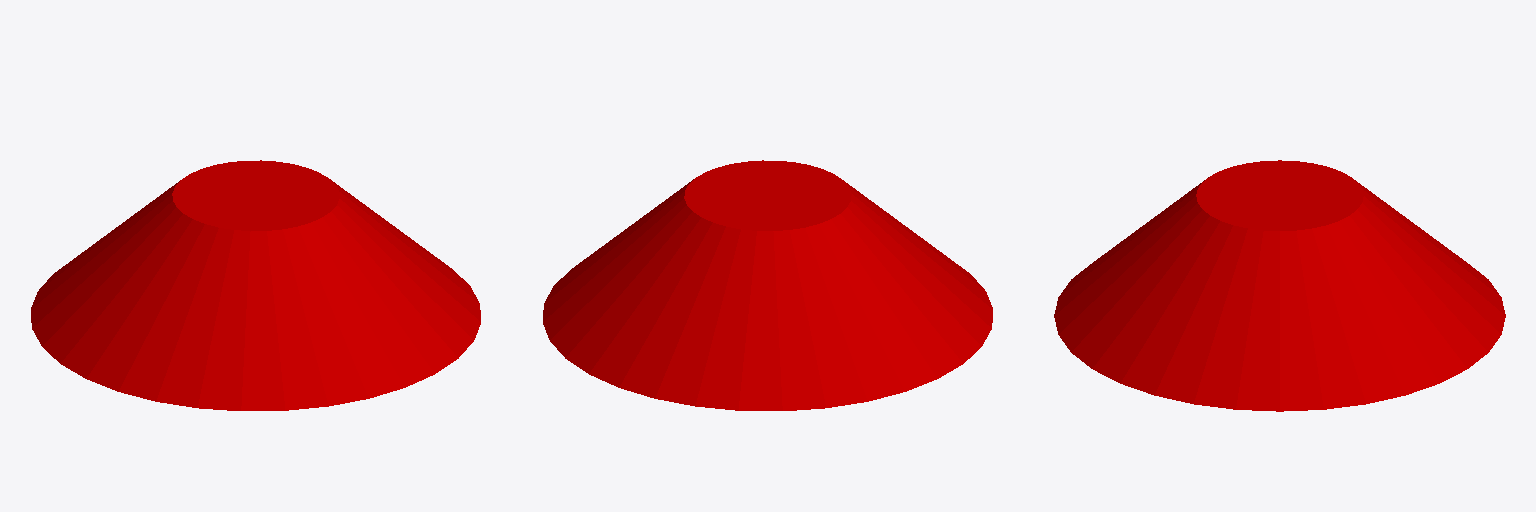
The model's file is light.obj.
3 views of the same model, side by side, from view 1: azimuth 30°, elevation 25°; view 2: azimuth 150°, elevation 25°; view 3: azimuth 270°, elevation 25° (orthographic).
Visible parts, largest first — view 1: Cylinder.004; view 2: Cylinder.004; view 3: Cylinder.004.
Part boxes in pixels (x1,y1,x2,y2): Cylinder.004: (31,160,480,410); Cylinder.004: (543,160,992,410); Cylinder.004: (1054,160,1505,411).
Bounding box in the file's own units: 2.48 × 0.7278 × 2.48.